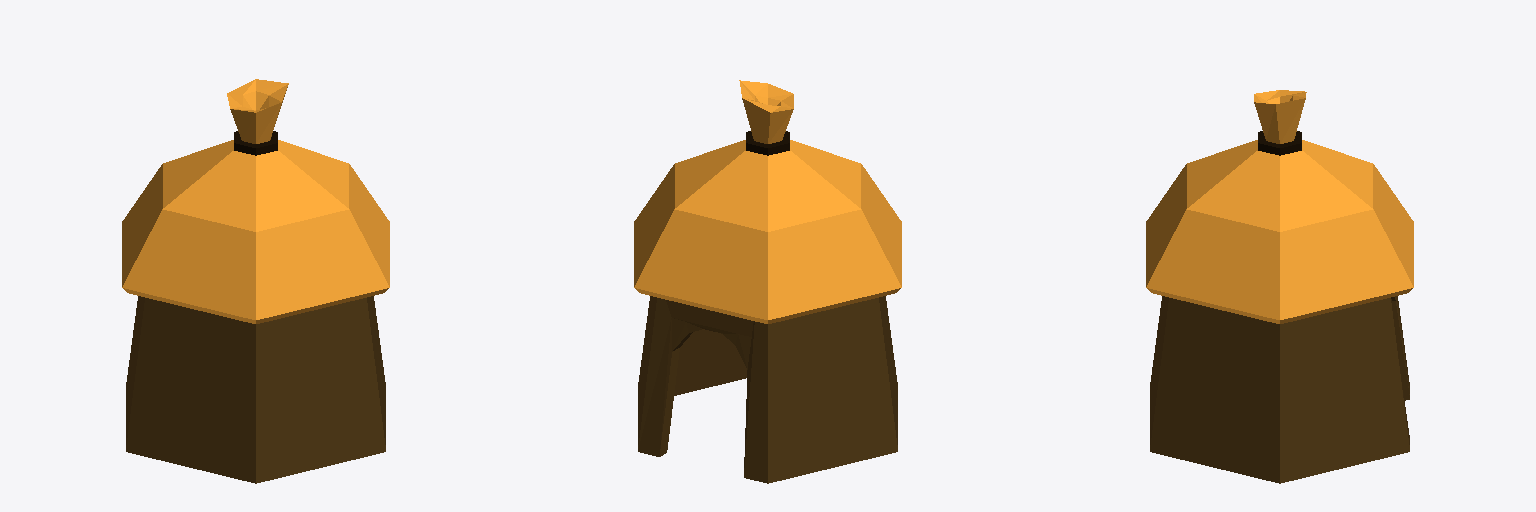
Rendered from SM_Hut.obj.
3 views of the same model, side by side, from view 1: azimuth 30°, elevation 25°; view 2: azimuth 150°, elevation 25°; view 3: azimuth 270°, elevation 25° (orthographic).
Parts seen in each view (by area): view 1: SM_Hut:SM_Hut; view 2: SM_Hut:SM_Hut; view 3: SM_Hut:SM_Hut.
Part boxes in pixels (left/top/right/bottom): SM_Hut:SM_Hut: left=122, top=79, right=389, bottom=483; SM_Hut:SM_Hut: left=634, top=80, right=901, bottom=483; SM_Hut:SM_Hut: left=1146, top=90, right=1413, bottom=483.
Bounding box in the file's own units: 7.28 × 8.63 × 6.3.